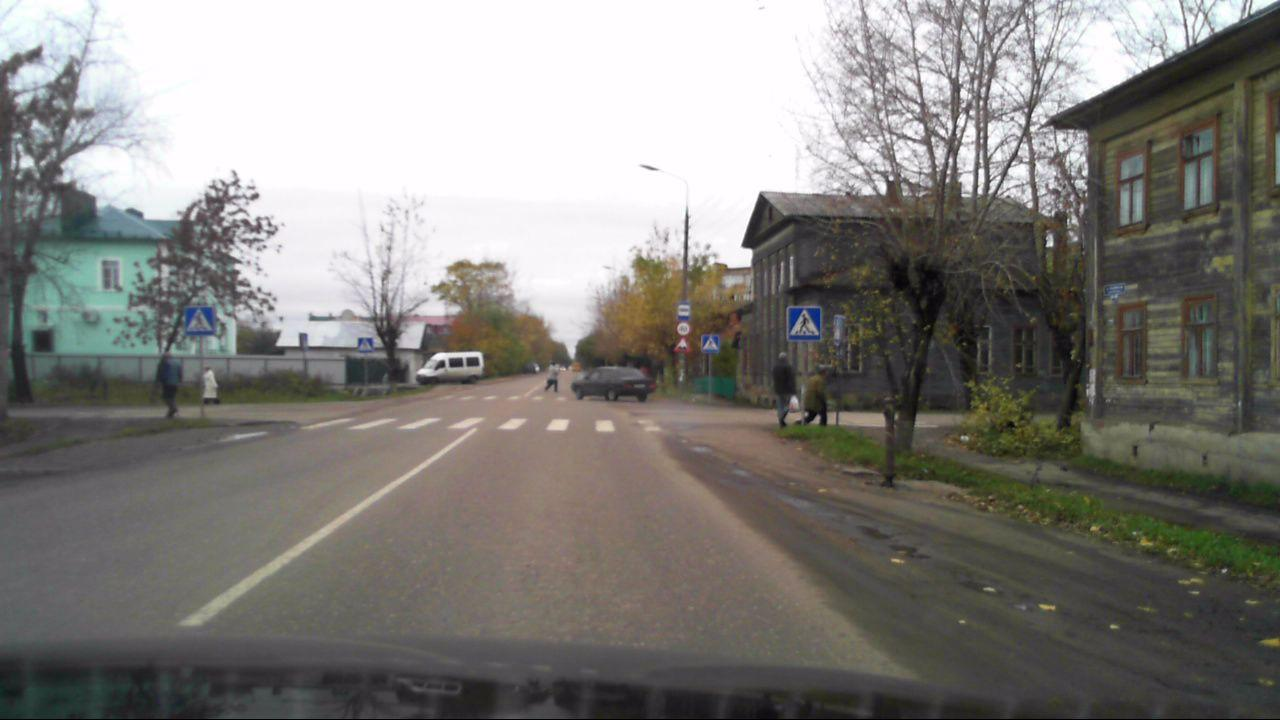road_sign: (788, 306, 820, 339), (670, 334, 695, 353), (672, 321, 692, 338), (677, 300, 692, 321), (702, 335, 719, 353)
